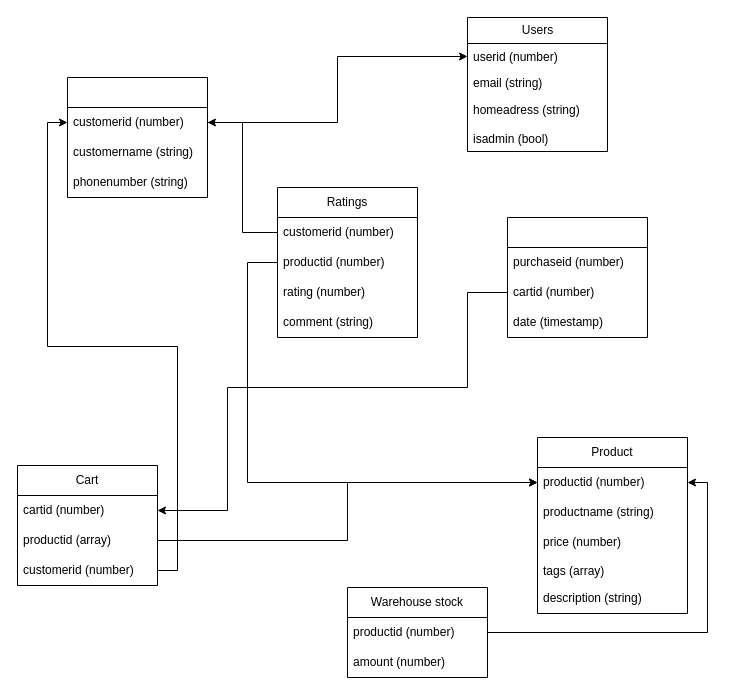
This 733x695 diagram has some shape labels left out. Each missing label, with the box of its shape:
Customers: (66, 76, 208, 198)
Purchases: (506, 216, 648, 338)
